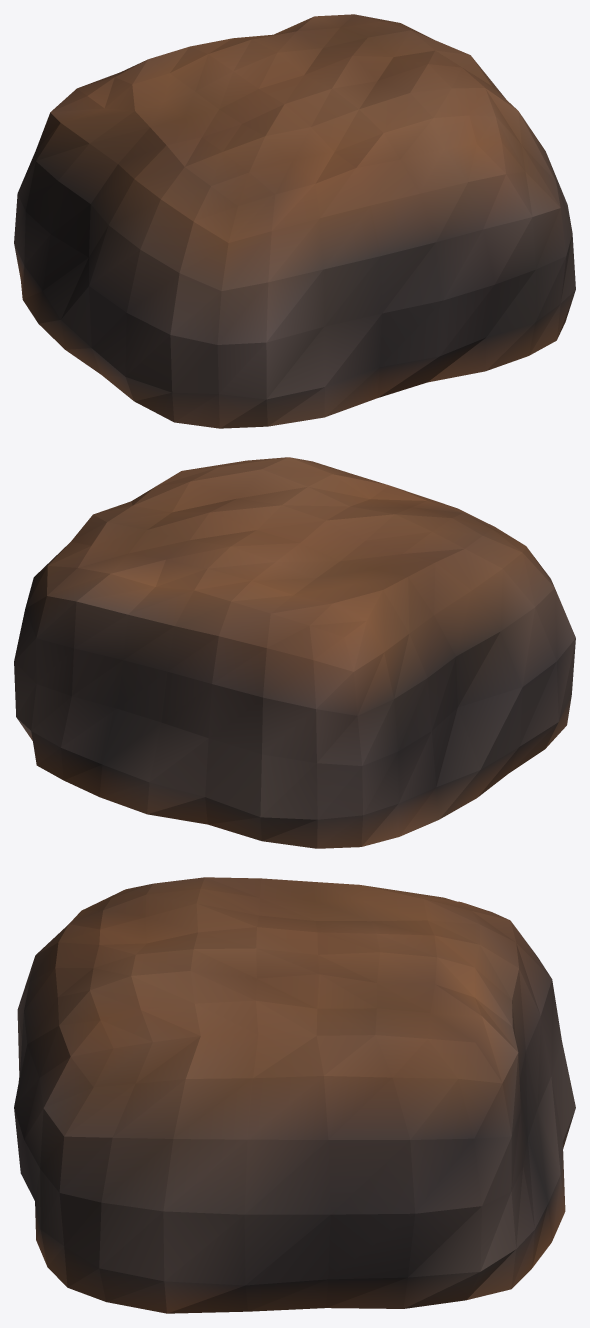
File: stimpy.glb
3 views of the same model, one above another, from view 1: azimuth 30°, elevation 25°; view 2: azimuth 150°, elevation 25°; view 3: azimuth 270°, elevation 25° (orthographic). The views are drawn at different scales.
Visible parts, largest first — view 1: cover-stimpy; view 2: cover-stimpy; view 3: cover-stimpy.
Part boxes in pixels (x1,y1,x2,y2): cover-stimpy: (14,14,575,428); cover-stimpy: (14,457,575,848); cover-stimpy: (14,877,575,1313).
Size of the model in its own units: 0.2456 by 0.12 by 0.2307.
